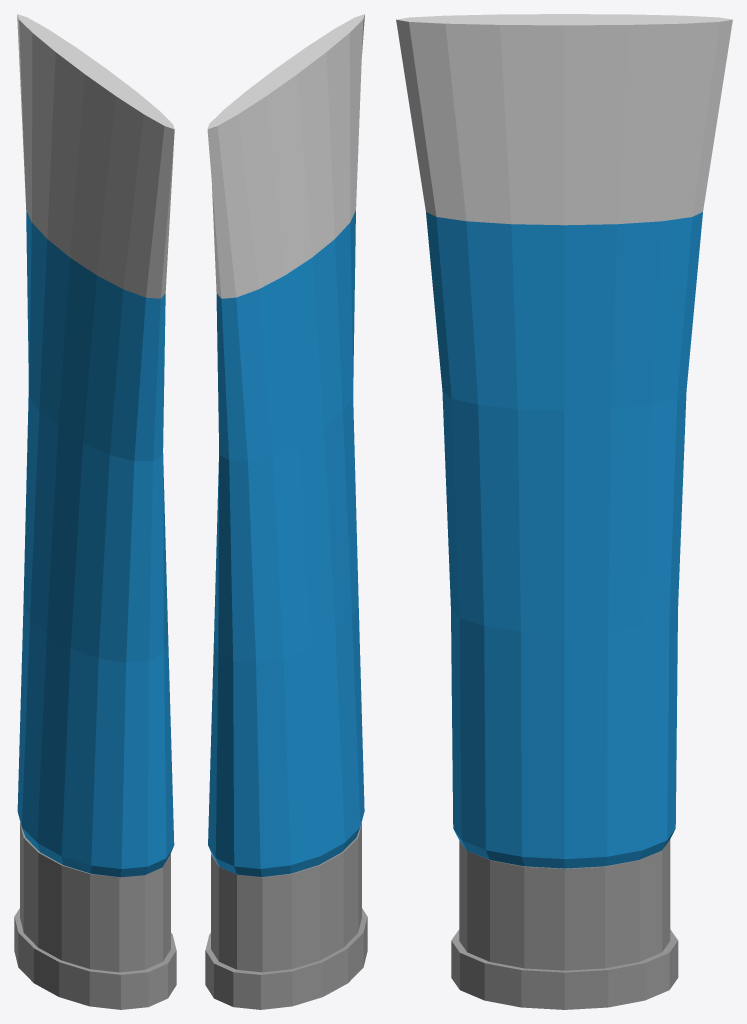
The picture shows the model from 3 angles, left to right: view 1: azimuth 30°, elevation 25°; view 2: azimuth 150°, elevation 25°; view 3: azimuth 270°, elevation 25°; orthographic projection. The views are drawn at different scales.
Parts seen in each view (by area): view 1: tube, cap; view 2: tube, cap; view 3: tube, cap.
Boxes of the visible parts, x1,y1,x2,y2 form: tube: [17, 14, 174, 877]; cap: [14, 822, 176, 1009]; tube: [207, 14, 364, 876]; cap: [205, 823, 367, 1009]; tube: [396, 14, 732, 868]; cap: [451, 839, 678, 1009].
Bounding box in the file's own units: 81.38 × 567 × 180.
